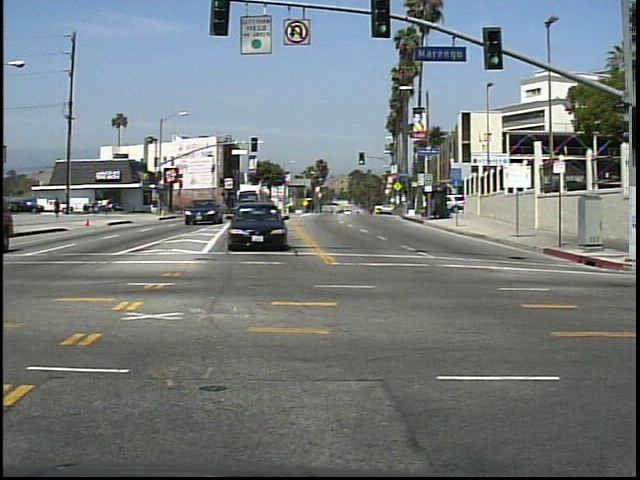person: (52, 195, 64, 220)
